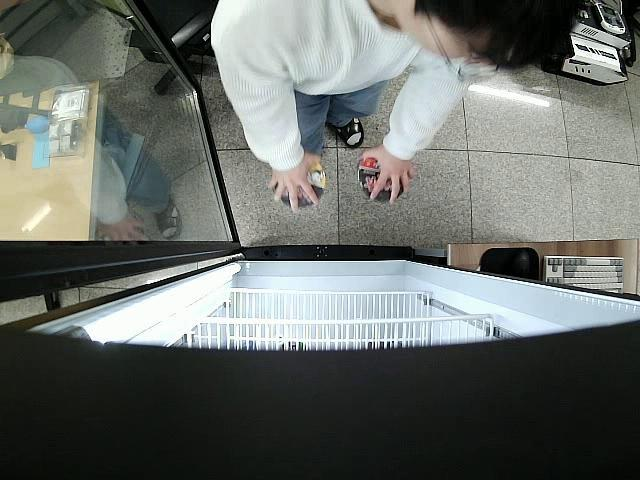07_buldak_L: (272, 162, 326, 208), (355, 158, 408, 201)
